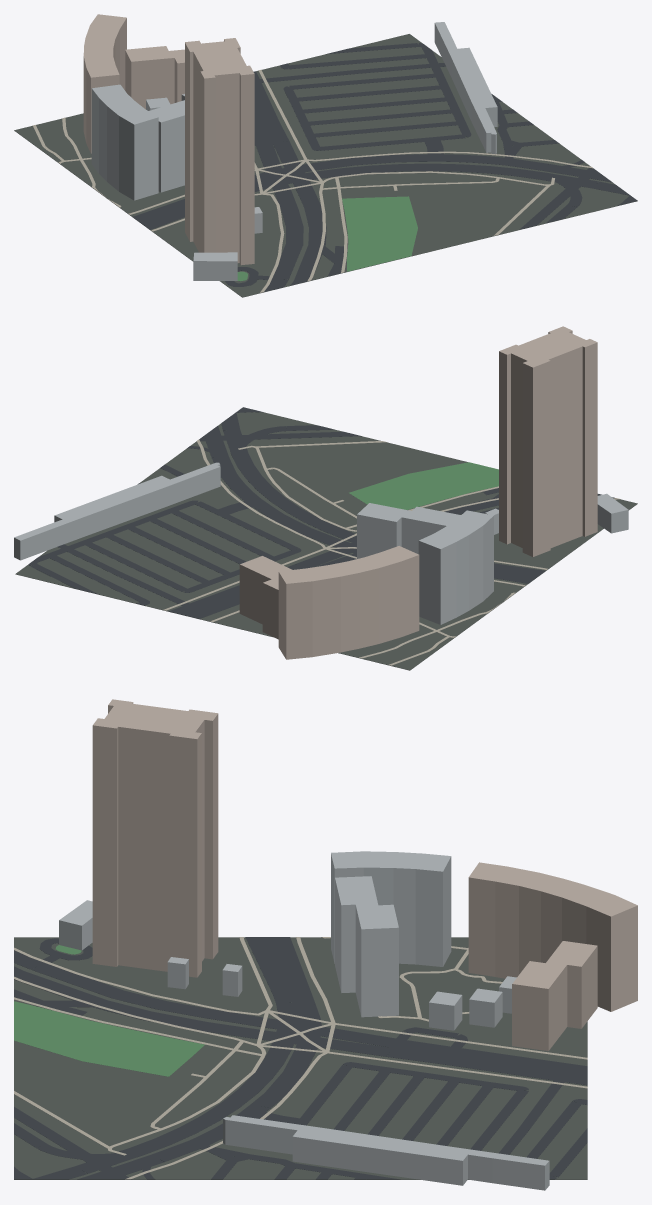
File: tile_006_005.glb
The picture shows the model from 3 angles, top to bottom: view 1: azimuth 30°, elevation 25°; view 2: azimuth 150°, elevation 25°; view 3: azimuth 270°, elevation 25°; orthographic projection. The views are drawn at different scales.
Visible parts, largest first — view 1: tile_006_005_ground, tile_006_005_roads, tile_006_005_buildings_residential, tile_006_005_buildings_neutral, tile_006_005_paths, tile_006_005_open_spaces; view 2: tile_006_005_buildings_residential, tile_006_005_ground, tile_006_005_buildings_neutral, tile_006_005_roads, tile_006_005_open_spaces, tile_006_005_paths; view 3: tile_006_005_ground, tile_006_005_buildings_residential, tile_006_005_roads, tile_006_005_buildings_neutral, tile_006_005_paths, tile_006_005_open_spaces.
Part boxes in pixels (x1,y1,x2,y2): tile_006_005_ground: (14,34,637,297); tile_006_005_roads: (133,43,637,292); tile_006_005_buildings_residential: (83,14,254,265); tile_006_005_buildings_neutral: (91,22,497,280); tile_006_005_paths: (32,70,593,292); tile_006_005_open_spaces: (237,196,417,281); tile_006_005_buildings_residential: (239,326,597,659); tile_006_005_ground: (15,412,637,670); tile_006_005_buildings_neutral: (14,462,628,624); tile_006_005_roads: (28,407,615,618); tile_006_005_open_spaces: (349,462,498,509); tile_006_005_paths: (163,439,620,665); tile_006_005_ground: (14,937,587,1179); tile_006_005_buildings_residential: (92,699,637,1050); tile_006_005_roads: (14,937,587,1179); tile_006_005_buildings_neutral: (59,851,549,1190); tile_006_005_paths: (14,937,587,1179); tile_006_005_open_spaces: (14,945,204,1076).
Size of the model in its own units: 274 by 115 by 272.
